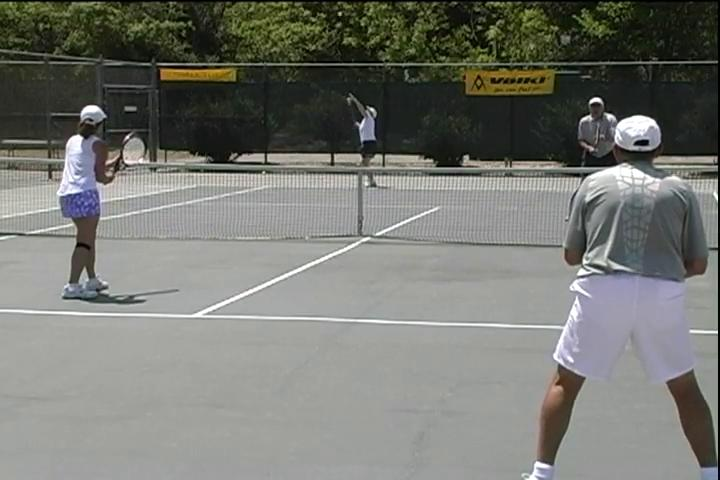victim: (520, 114, 720, 480), (49, 94, 119, 306), (562, 96, 622, 234), (334, 92, 384, 193)
